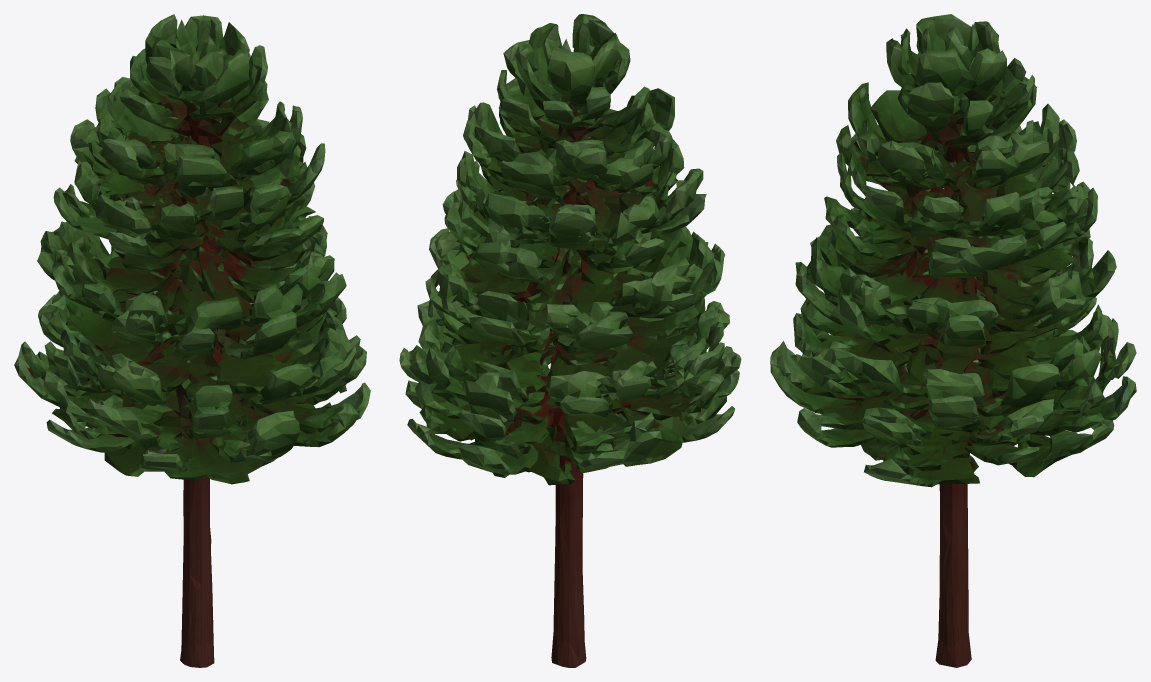
The model's file is pine.glb.
3 renders of one model, left to right at view 1: azimuth 30°, elevation 25°; view 2: azimuth 150°, elevation 25°; view 3: azimuth 270°, elevation 25°, orthographic.
Visible parts, largest first — view 1: textured_mesh.obj; view 2: textured_mesh.obj; view 3: textured_mesh.obj.
Part boxes in pixels (left/top/right/bottom): textured_mesh.obj: left=14, top=14, right=370, bottom=667; textured_mesh.obj: left=399, top=14, right=741, bottom=667; textured_mesh.obj: left=770, top=14, right=1136, bottom=667.
Size of the model in its own units: 0.5341 by 1.1 by 0.5735.
Materials: 1 (1 with a texture image).
